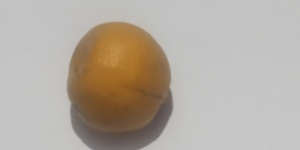BAD: (64, 20, 173, 134)
